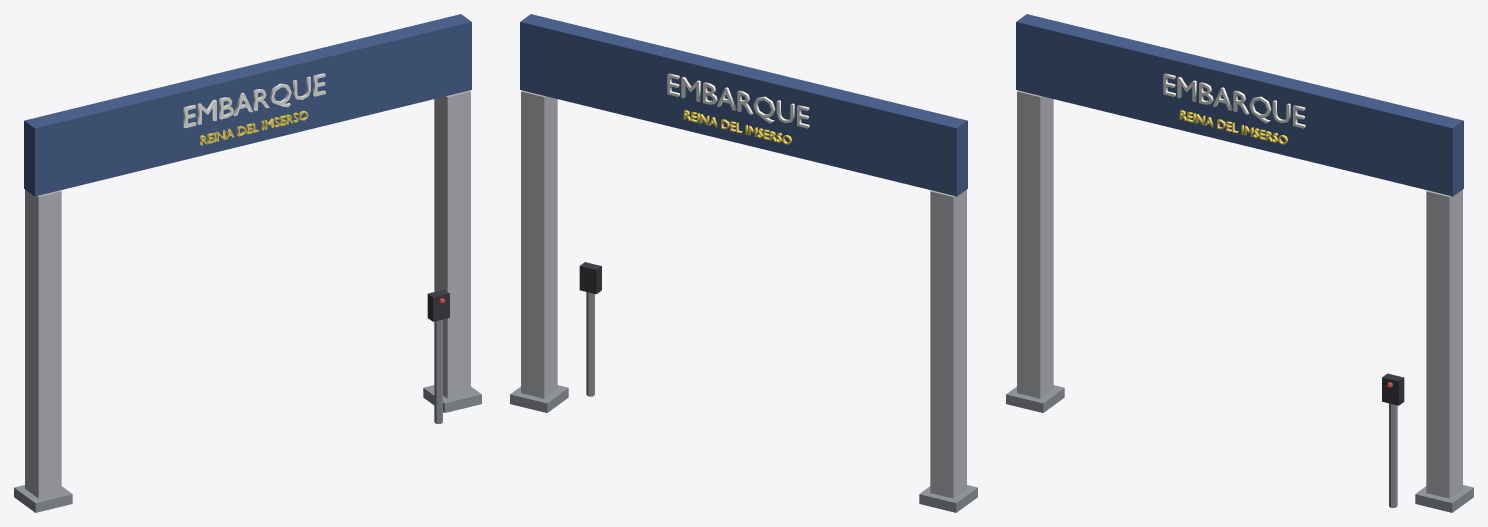
File: CR_PuertaEmbarque.fbx
3 renders of one model, left to right at view 1: azimuth 30°, elevation 25°; view 2: azimuth 150°, elevation 25°; view 3: azimuth 330°, elevation 25°, orthographic.
Visible parts, largest first — view 1: CR_PuertaEmbarque; view 2: CR_PuertaEmbarque; view 3: CR_PuertaEmbarque.
Part boxes in pixels (x1=…): CR_PuertaEmbarque: x1=14, y1=14, x2=481, y2=512; CR_PuertaEmbarque: x1=510, y1=14, x2=977, y2=512; CR_PuertaEmbarque: x1=1006, y1=14, x2=1473, y2=512.
Size of the model in its own units: 4.8 by 3.9 by 0.64.
